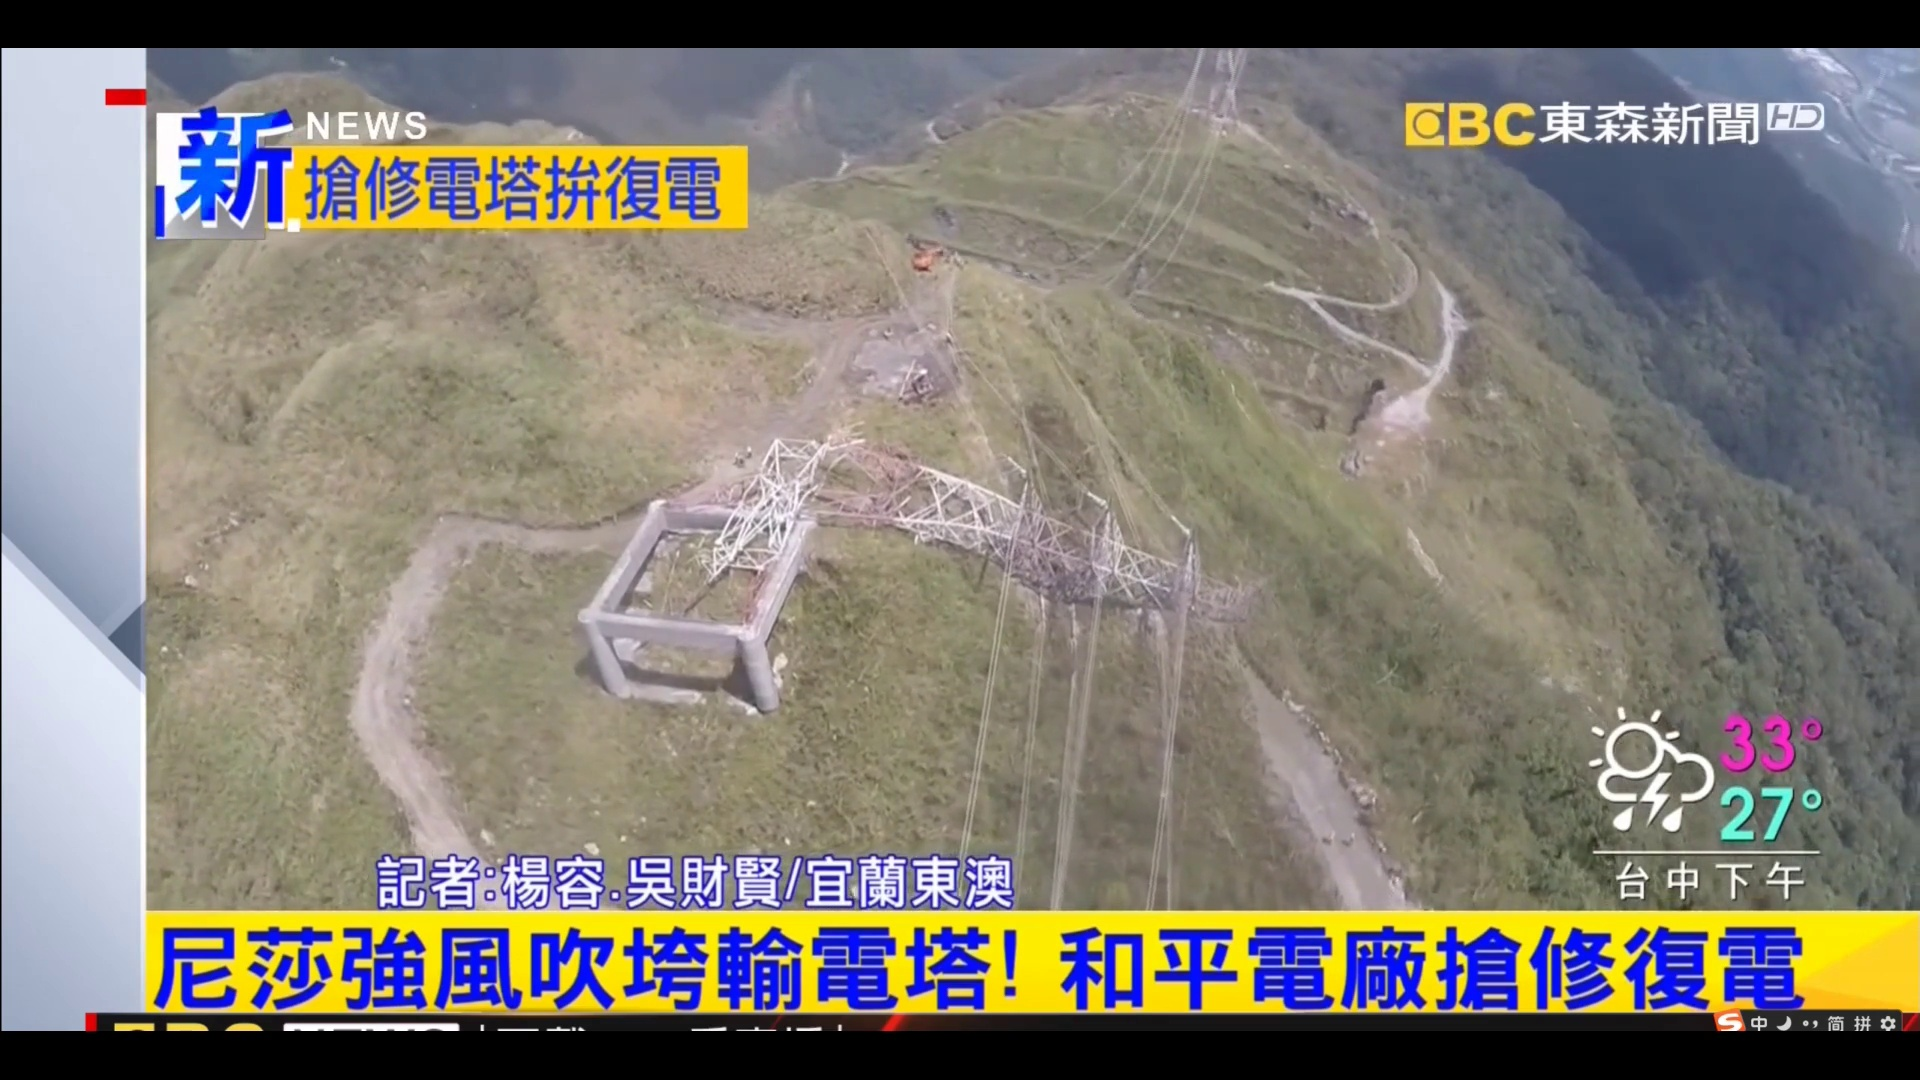tower_down: (753, 429, 1255, 622)
